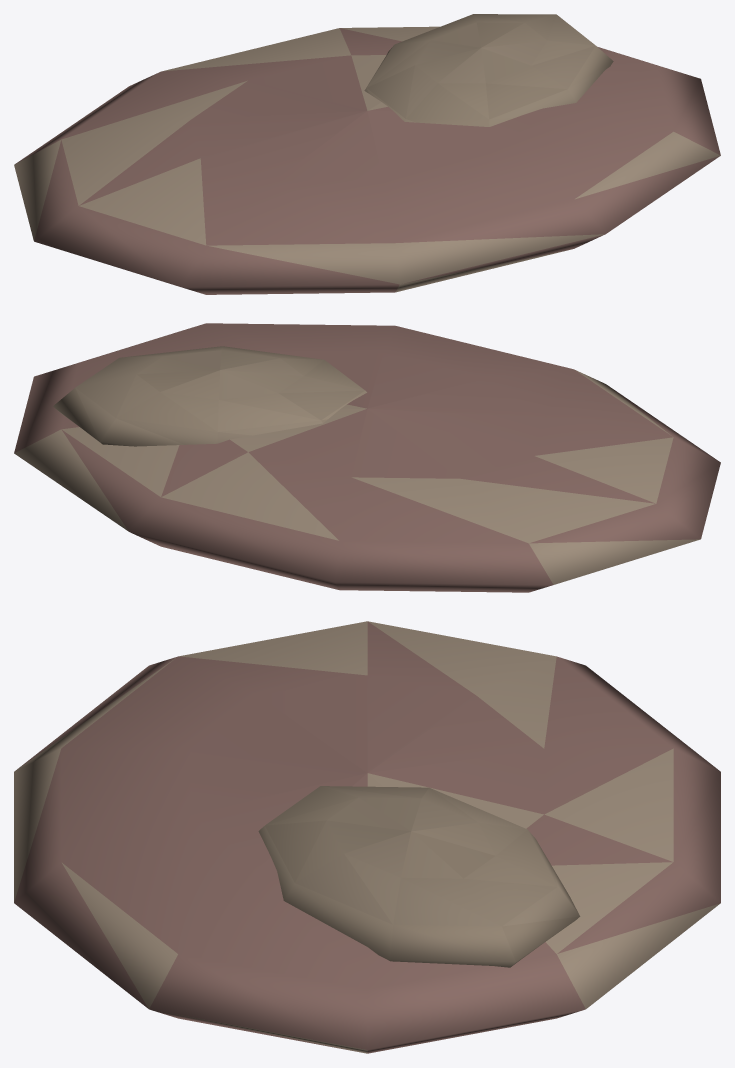
File: camp_dog_bed_a.glb
3 renders of one model, top to bottom at view 1: azimuth 30°, elevation 25°; view 2: azimuth 150°, elevation 25°; view 3: azimuth 270°, elevation 25°, orthographic. The views are drawn at different scales.
Parts seen in each view (by area): view 1: body; view 2: body; view 3: body.
Part boxes in pixels (x1,y1,x2,y2): body: (14, 14, 720, 294); body: (14, 323, 720, 592); body: (14, 621, 720, 1053).
Bounding box in the file's own units: 0.92 × 0.155 × 0.6467.
